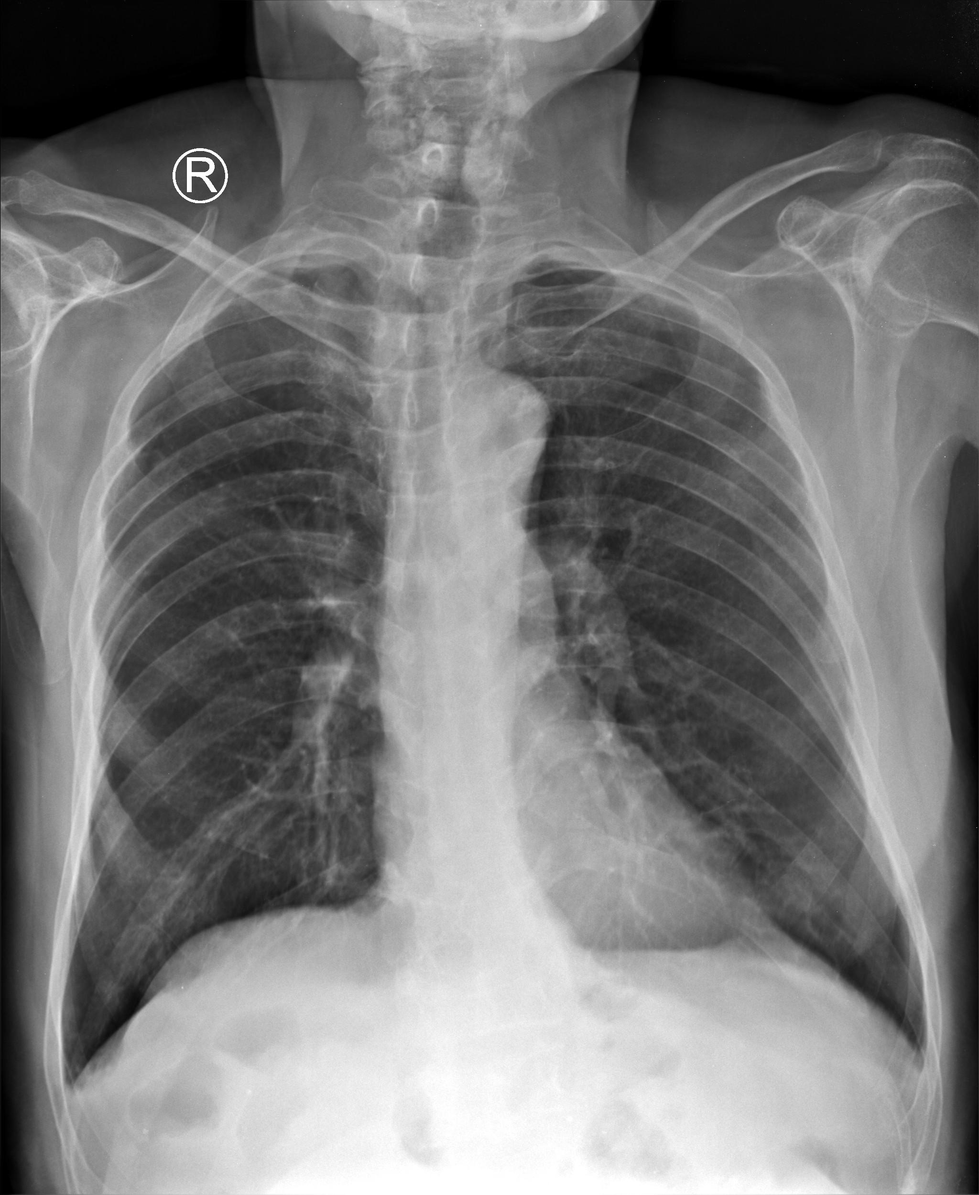Aortic enlargement: (437, 368, 553, 474)
Pleural thickening: (204, 251, 375, 319), (503, 240, 603, 268), (55, 1060, 87, 1112)
